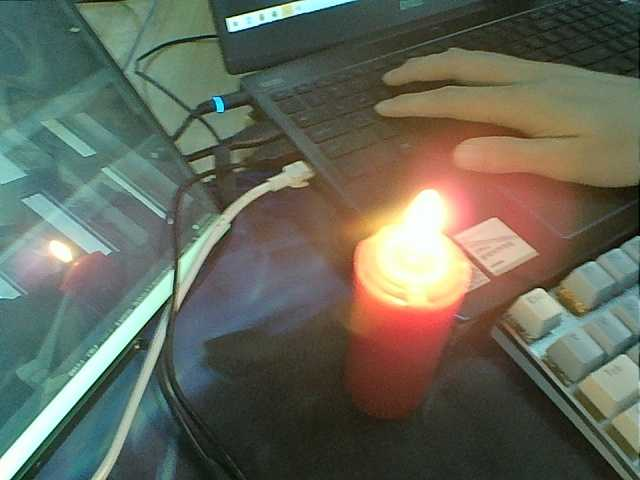candle: (359, 278, 451, 427), (68, 275, 126, 303)
fire: (381, 180, 463, 282), (43, 232, 80, 262)
